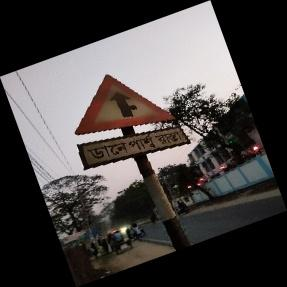Side-road-right: (74, 74, 195, 167)
